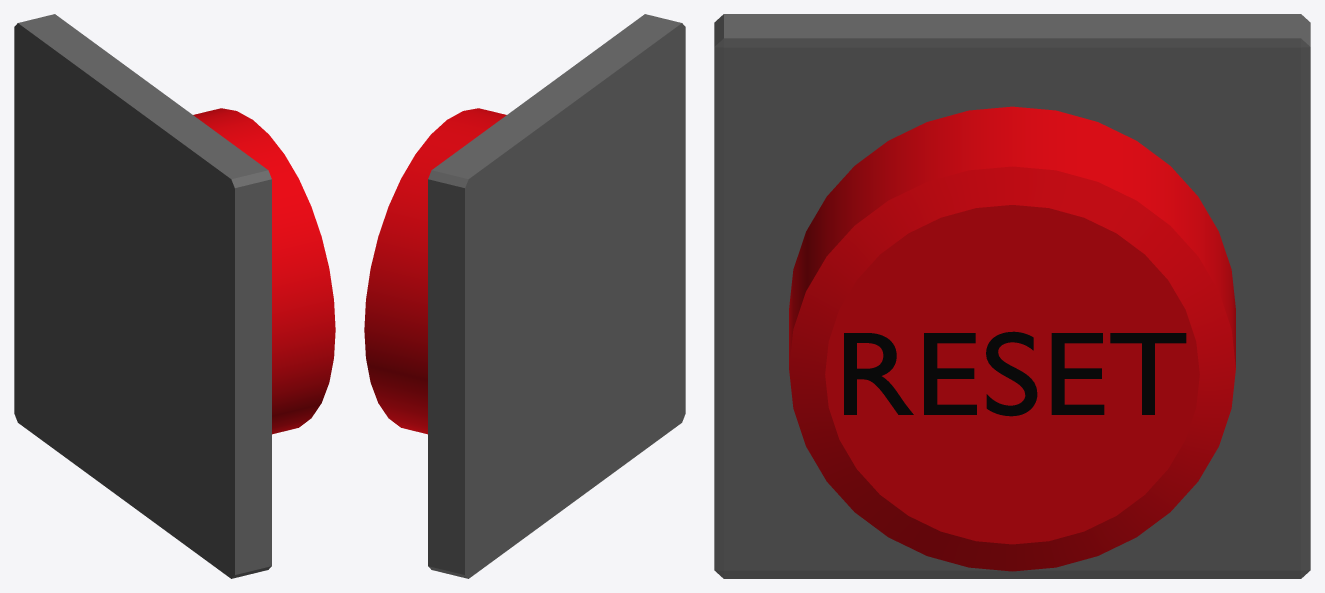
Rendered from Elec_reset.fbx.
3 views of the same model, side by side, from view 1: azimuth 30°, elevation 25°; view 2: azimuth 150°, elevation 25°; view 3: azimuth 270°, elevation 25° (orthographic). The views are drawn at different scales.
Visible parts, largest first — view 1: Cube, Cylinder; view 2: Cube, Cylinder; view 3: Cube, Cylinder, Text.
Part boxes in pixels (left/top/right/bottom): Cube: left=14, top=14, right=271, bottom=578; Cylinder: left=193, top=108, right=335, bottom=434; Cube: left=428, top=14, right=685, bottom=578; Cylinder: left=364, top=108, right=506, bottom=434; Cube: left=714, top=14, right=1310, bottom=578; Cylinder: left=789, top=106, right=1235, bottom=571; Text: left=844, top=331, right=1186, bottom=416.
Size of the model in its own units: 72.58 by 200 by 200.
